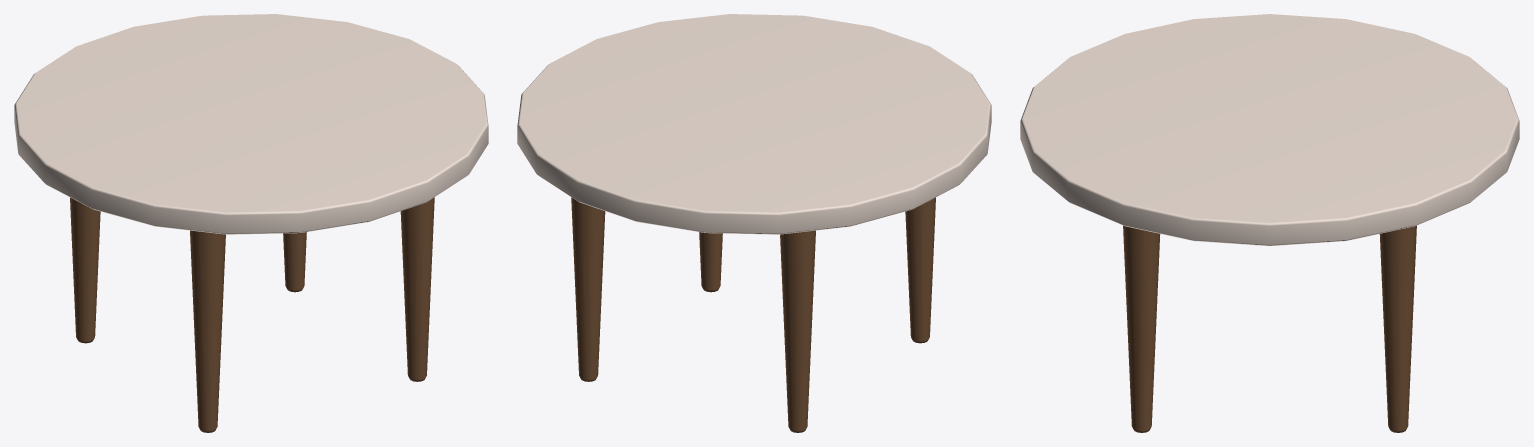
The model's file is Table_4.glb.
The picture shows the model from 3 angles, left to right: view 1: azimuth 30°, elevation 25°; view 2: azimuth 150°, elevation 25°; view 3: azimuth 270°, elevation 25°; orthographic projection. The views are drawn at different scales.
Parts seen in each view (by area): view 1: Table_4; view 2: Table_4; view 3: Table_4.
Part boxes in pixels (x1,y1,x2,y2): Table_4: (14, 14, 488, 432); Table_4: (517, 14, 991, 432); Table_4: (1020, 14, 1519, 432).
Bounding box in the file's own units: 1.46 × 0.8342 × 1.46.
1 material, 1 textured.
